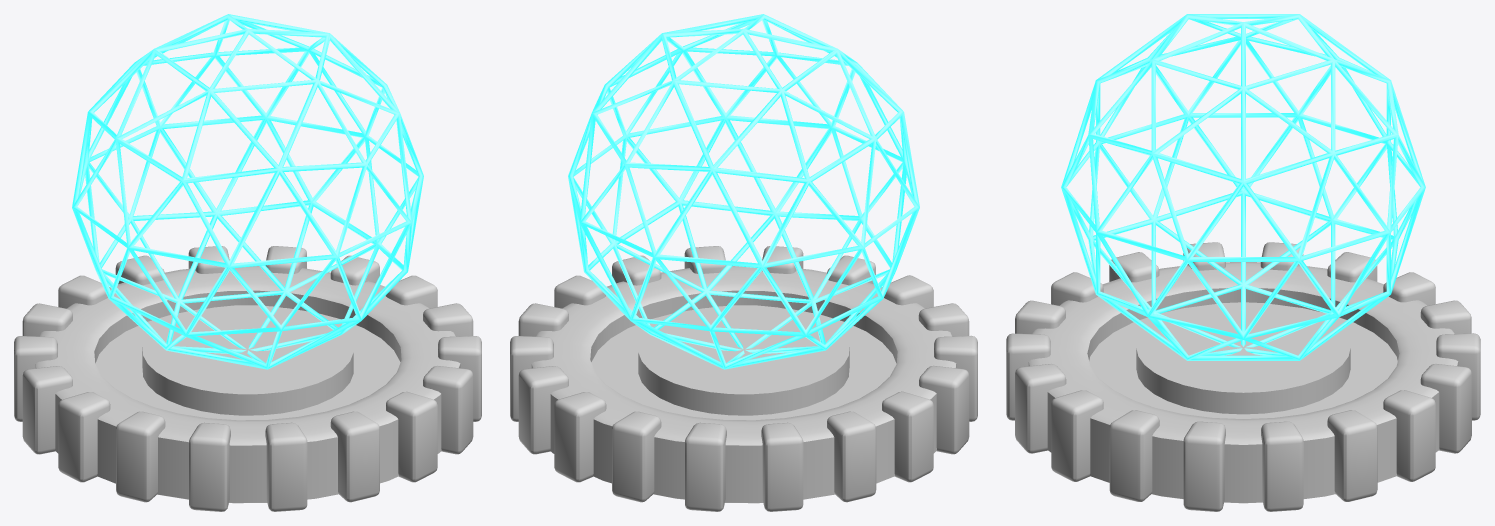
The model's file is AI Bot_pad_withmodel.fbx.
The picture shows the model from 3 angles, left to right: view 1: azimuth 30°, elevation 25°; view 2: azimuth 150°, elevation 25°; view 3: azimuth 270°, elevation 25°; orthographic projection.
Visible parts, largest first — view 1: Cube, Icosphere; view 2: Cube, Icosphere; view 3: Cube, Icosphere.
Boxes of the visible parts, box(x1,y1,x2,y2) form: Cube: box(14, 246, 481, 511); Icosphere: box(72, 14, 423, 369); Cube: box(510, 246, 977, 511); Icosphere: box(568, 14, 919, 369); Cube: box(1006, 242, 1480, 511); Icosphere: box(1061, 14, 1425, 360).
Bounding box in the file's own units: 218 × 200 × 219.
